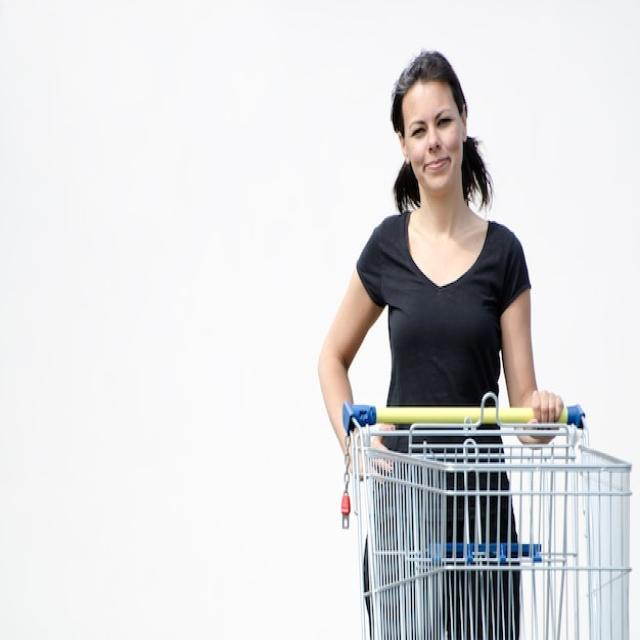Person: (317, 49, 564, 640)
